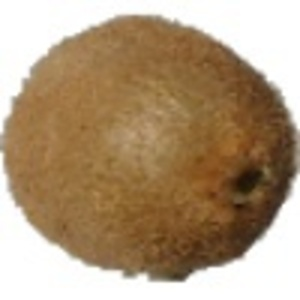kiwi: (1, 11, 300, 284)
